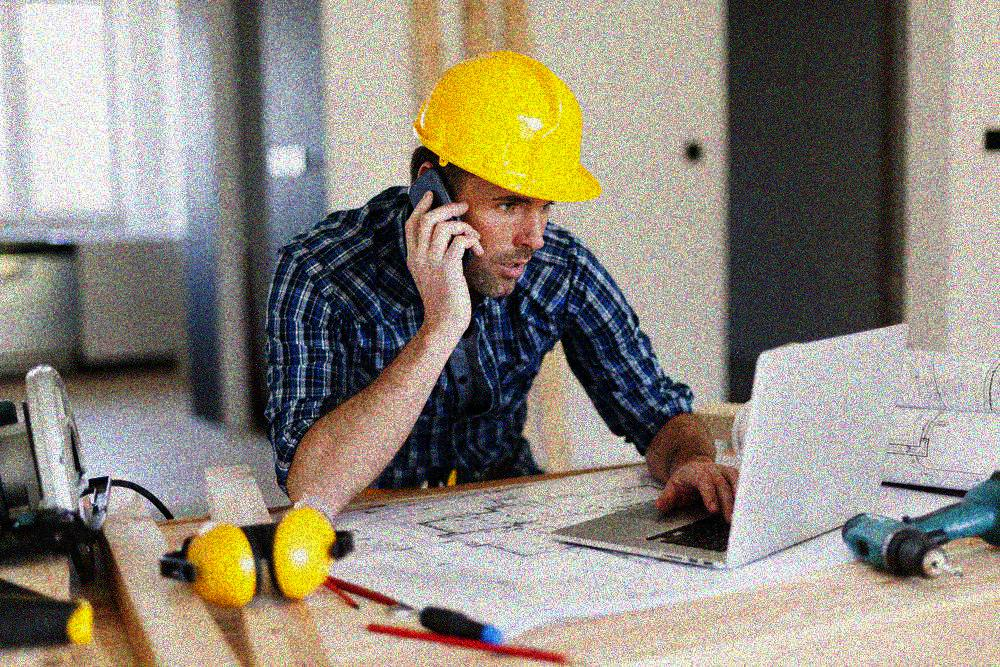helmet: (405, 48, 603, 305)
